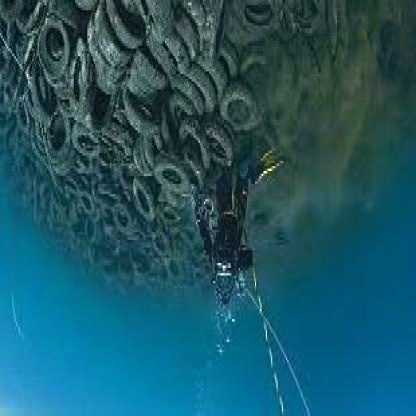tire: (1, 2, 200, 258), (199, 5, 326, 153)
